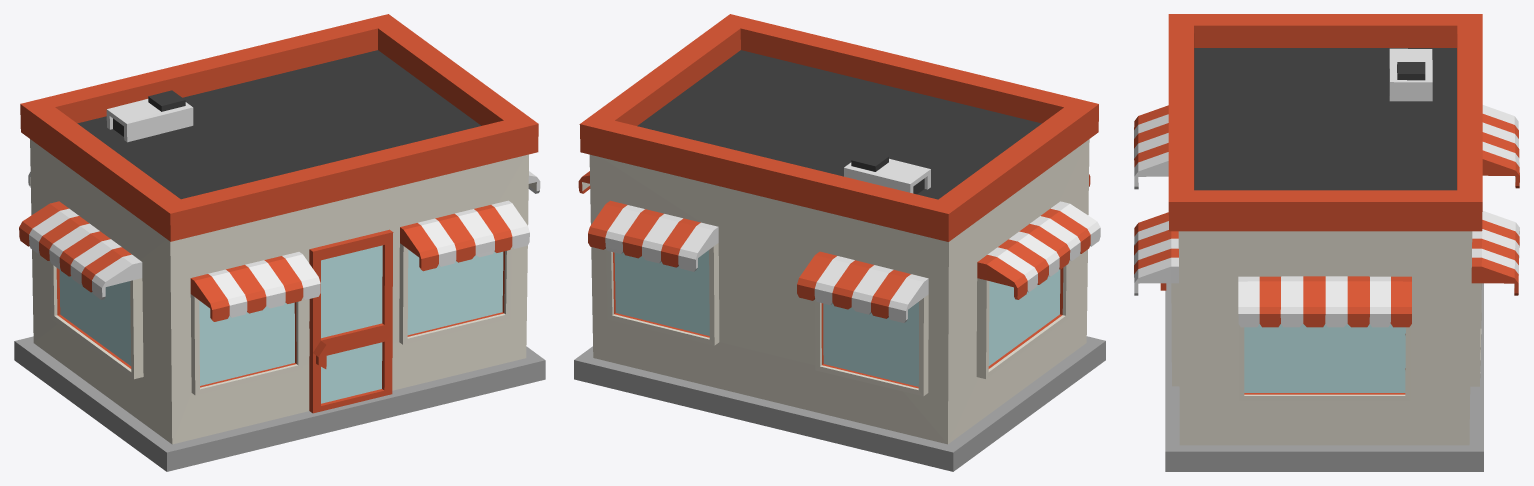
File: shop.glb
3 renders of one model, left to right at view 1: azimuth 30°, elevation 25°; view 2: azimuth 150°, elevation 25°; view 3: azimuth 270°, elevation 25°, orthographic. The views are drawn at different scales.
Visible parts, largest first — view 1: Shop; view 2: Shop; view 3: Shop.
Boxes of the visible parts, x1,y1,x2,y2 form: Shop: (14, 14, 545, 471); Shop: (574, 14, 1105, 471); Shop: (1134, 14, 1519, 471).
Size of the model in its own units: 2.48 by 1.39 by 1.8.
Materials: 1 (1 with a texture image).
